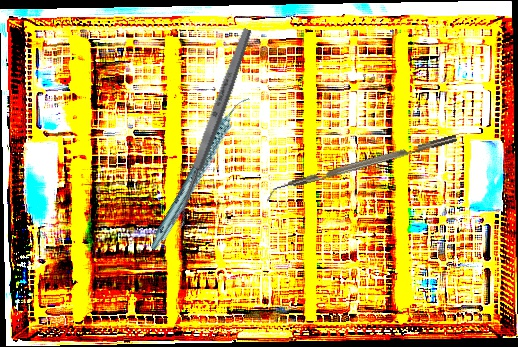Chopper: (263, 134, 460, 203)
Handpiece: (122, 93, 277, 252)
Surgical Spoon: (169, 26, 255, 229)
